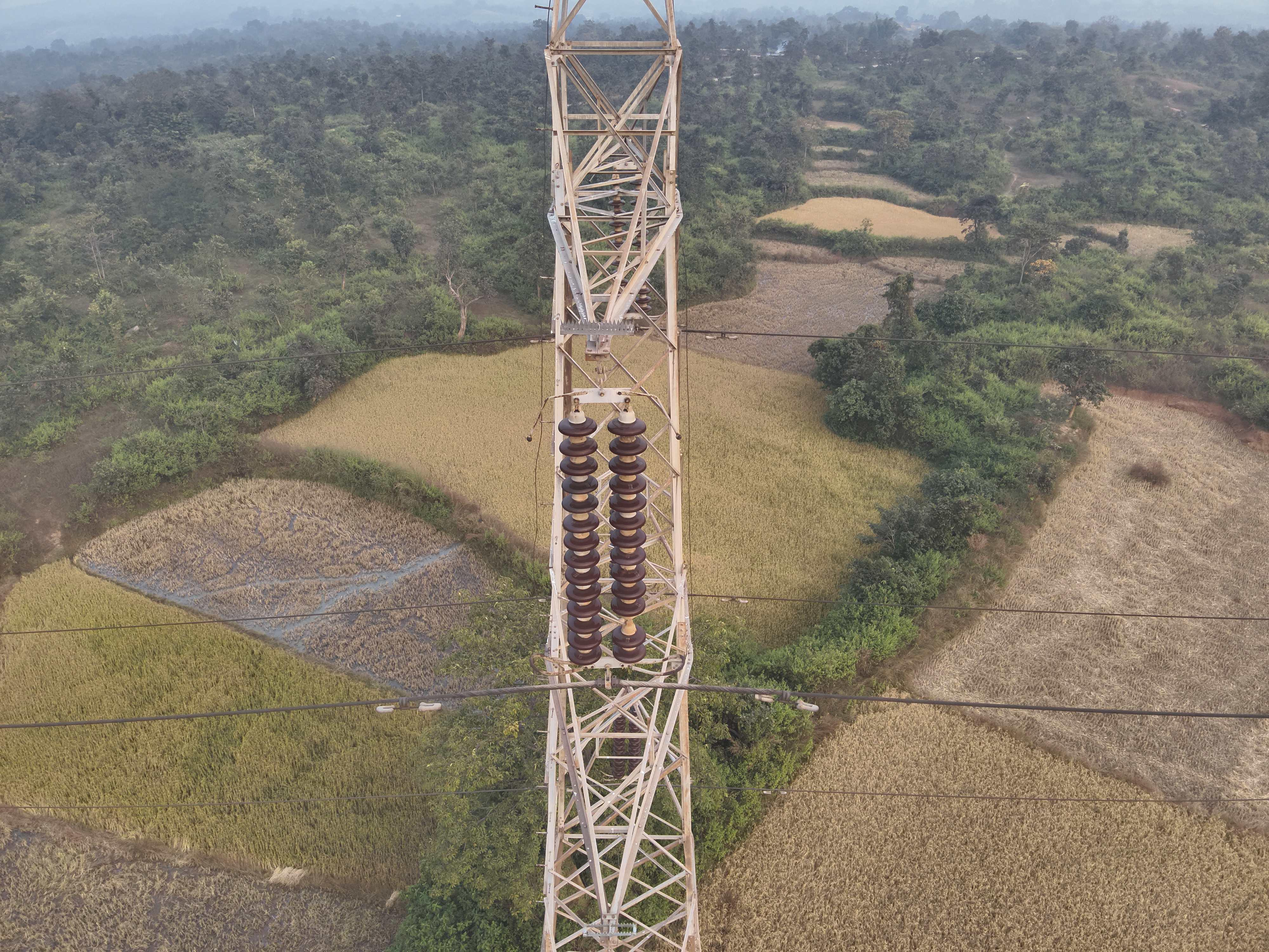broken_insulator: (612, 617, 645, 632)
